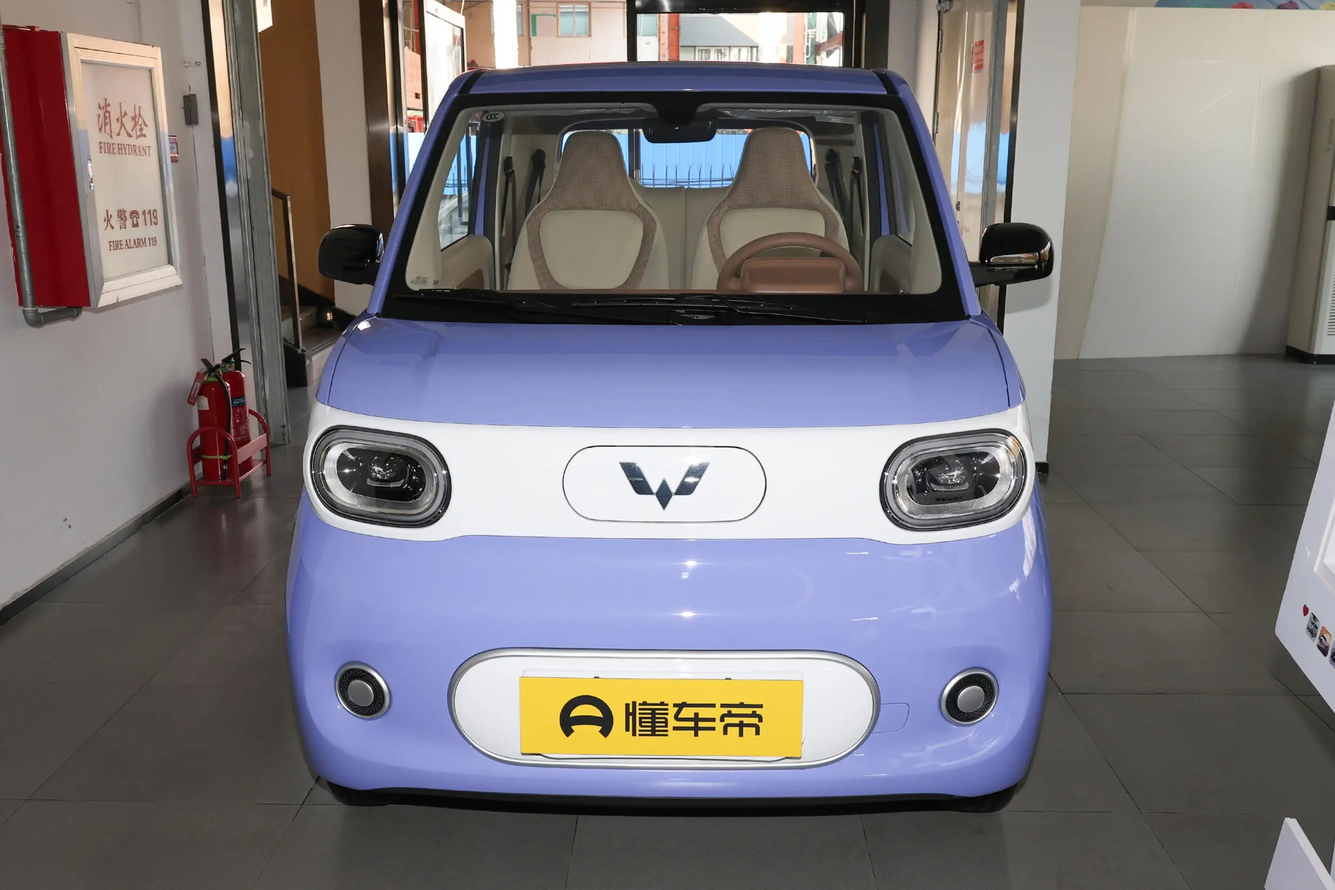SGMW: (620, 461, 710, 509)
